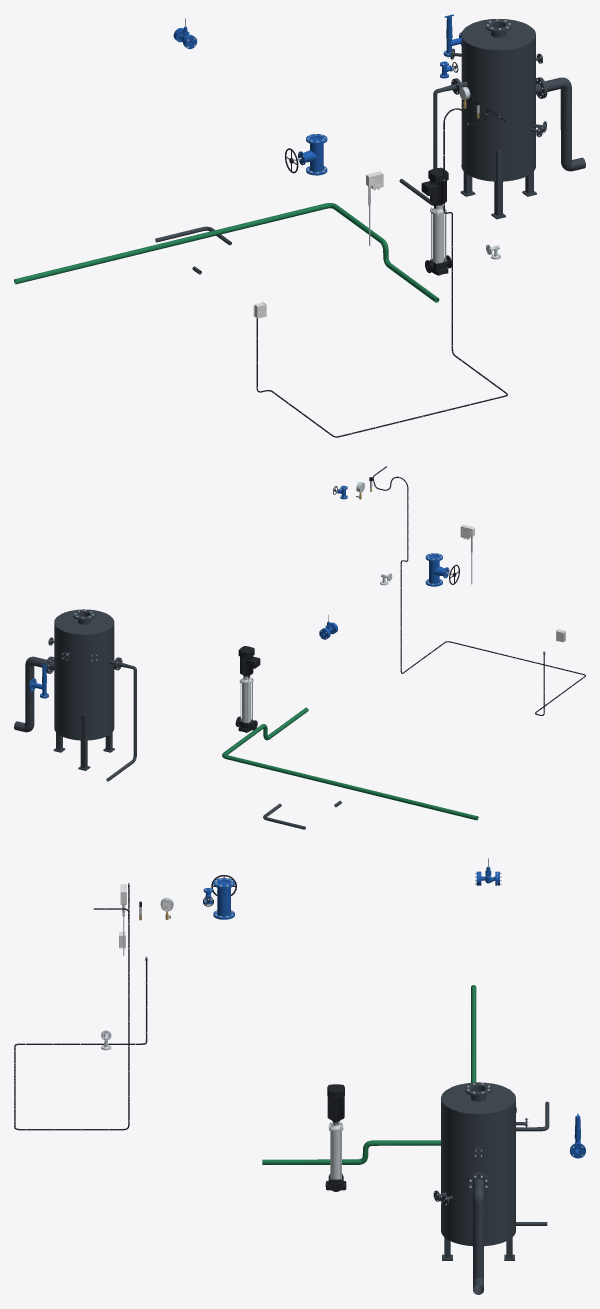
The model's file is s4000-3-D2l0CPEl.glb.
The picture shows the model from 3 angles, top to bottom: view 1: azimuth 30°, elevation 25°; view 2: azimuth 150°, elevation 25°; view 3: azimuth 270°, elevation 25°; orthographic projection. The views are drawn at different scales.
Parts seen in each view (by area): view 1: separator_bdv60_5 / dark, suction_common / green, wiring_pressure_switch_1 / black, bdv_water_drain / dark, steam_manual / blue, bottom_to_bdv / dark, pump_2 CAD solid 15, pump_2 CAD solid 2; view 2: separator_bdv60_5 / dark, suction_common / green, wiring_pressure_switch_1 / black, bdv_water_drain / dark, bottom_to_bdv / dark, steam_manual / blue, pump_2 CAD solid 15; view 3: separator_bdv60_5 / dark, suction_common / green, bdv_water_drain / dark, wiring_pressure_switch_1 / black, steam_manual / blue, pump_2 CAD solid 15.
Boxes of the visible parts, x1,y1,x2,y2 form: separator_bdv60_5 / dark: (450,19,546,219); suction_common / green: (14,203,439,302); wiring_pressure_switch_1 / black: (256,108,507,437); bdv_water_drain / dark: (539,77,585,171); steam_manual / blue: (298,134,327,175); bottom_to_bdv / dark: (399,78,460,205); pump_2 CAD solid 15: (421,167,448,204); pump_2 CAD solid 2: (432,214,444,263); separator_bdv60_5 / dark: (46,609,118,770); suction_common / green: (222,707,478,820); wiring_pressure_switch_1 / black: (373,466,585,715); bdv_water_drain / dark: (14,656,51,732); bottom_to_bdv / dark: (106,657,136,781); steam_manual / blue: (425,553,449,586); pump_2 CAD solid 15: (238,646,260,675); separator_bdv60_5 / dark: (433,1082,527,1260); suction_common / green: (262,985,476,1164); bdv_water_drain / dark: (467,1173,489,1294); wiring_pressure_switch_1 / black: (14,883,147,1130); steam_manual / blue: (213,878,234,919); pump_2 CAD solid 15: (327,1084,344,1120).
Size of the model in its own units: 6.75 by 3.2 by 5.82.
